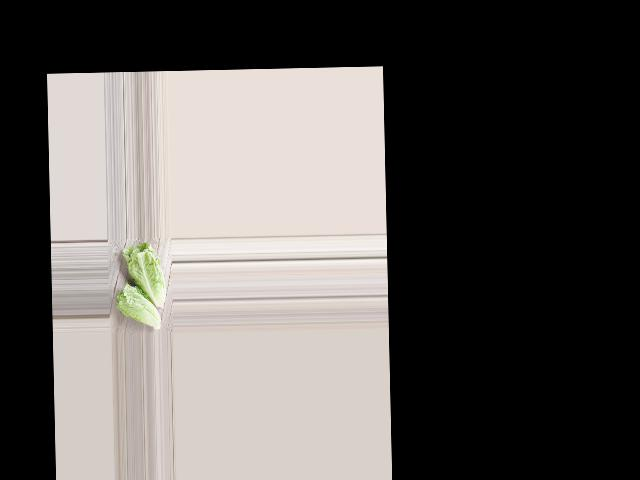lettuce: (111, 282, 163, 333)
